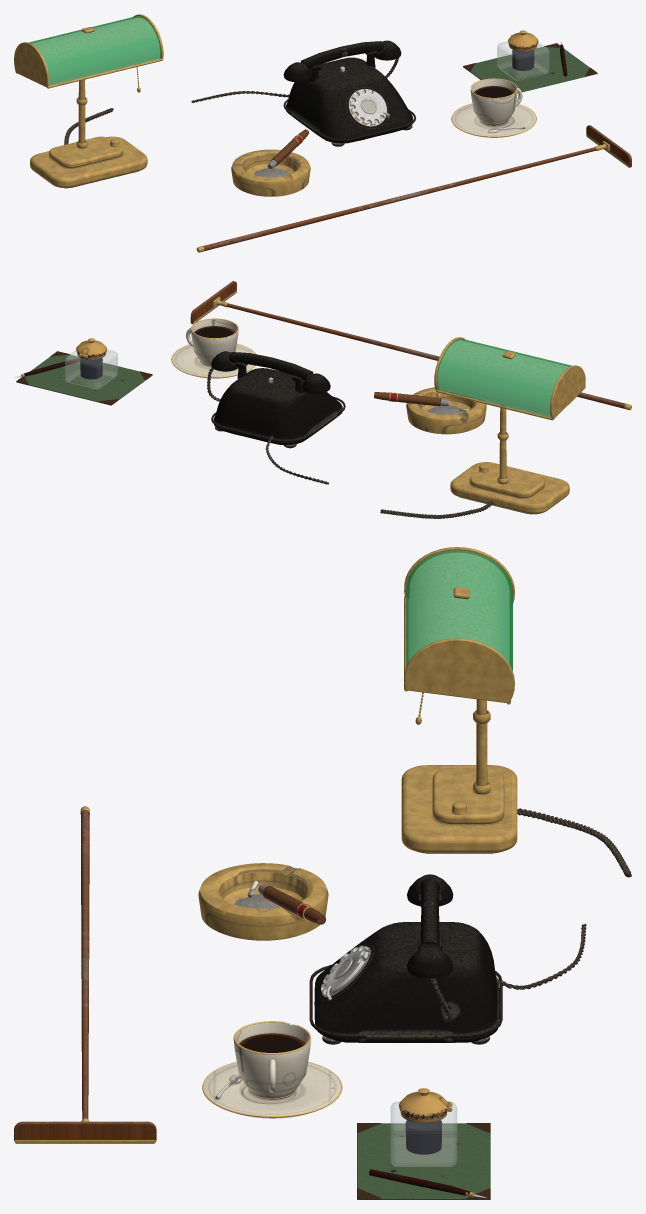
The model's file is props.glb.
The picture shows the model from 3 angles, top to bottom: view 1: azimuth 30°, elevation 25°; view 2: azimuth 150°, elevation 25°; view 3: azimuth 270°, elevation 25°; orthographic projection. The views are drawn at different scales.
Parts seen in each view (by area): view 1: lamp, phone, inkwell, cup, ashtray, rake, handset, dial; view 2: lamp, phone, inkwell, ashtray, cup, rake, handset; view 3: lamp, phone, inkwell, cup, ashtray, rake, handset, dial.
Boxes of the visible parts, x1,y1,x2,y2 form: lamp: [14, 14, 163, 188]; phone: [191, 51, 415, 146]; inkwell: [463, 30, 597, 93]; cup: [451, 78, 536, 137]; ashtray: [231, 129, 310, 196]; rake: [196, 125, 631, 252]; handset: [283, 40, 401, 82]; dial: [350, 89, 386, 125]; lamp: [380, 337, 585, 518]; phone: [207, 362, 345, 484]; inkwell: [14, 338, 152, 405]; ashtray: [374, 387, 486, 434]; cup: [171, 318, 255, 378]; rake: [190, 281, 631, 410]; handset: [211, 351, 330, 393]; lamp: [401, 547, 631, 877]; phone: [309, 894, 586, 1044]; inkwell: [357, 1088, 490, 1199]; cup: [202, 1021, 342, 1118]; ashtray: [198, 863, 328, 940]; rake: [14, 806, 156, 1143]; handset: [407, 874, 453, 978]; dial: [321, 945, 368, 994].
Size of the model in its own units: 11.45 by 2.82 by 6.94.
11 materials, 8 textured.
